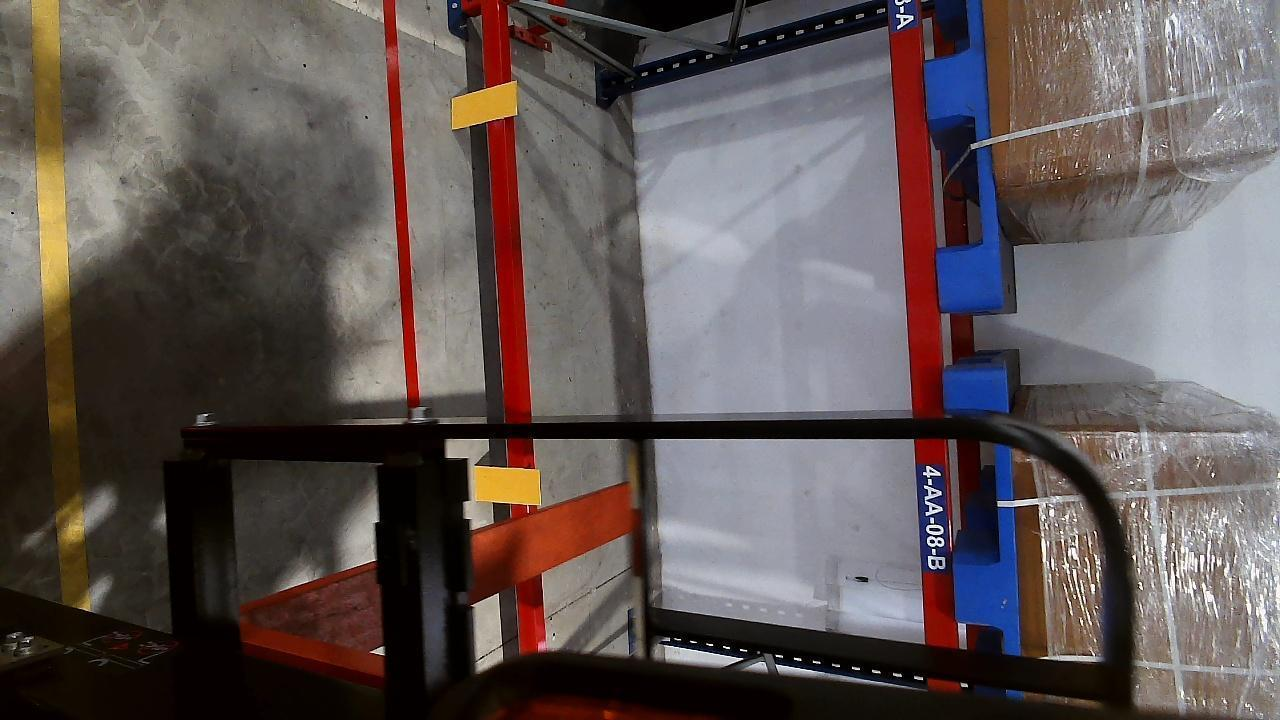red_line: (380, 0, 421, 407)
yellow_line: (23, 0, 91, 611)
